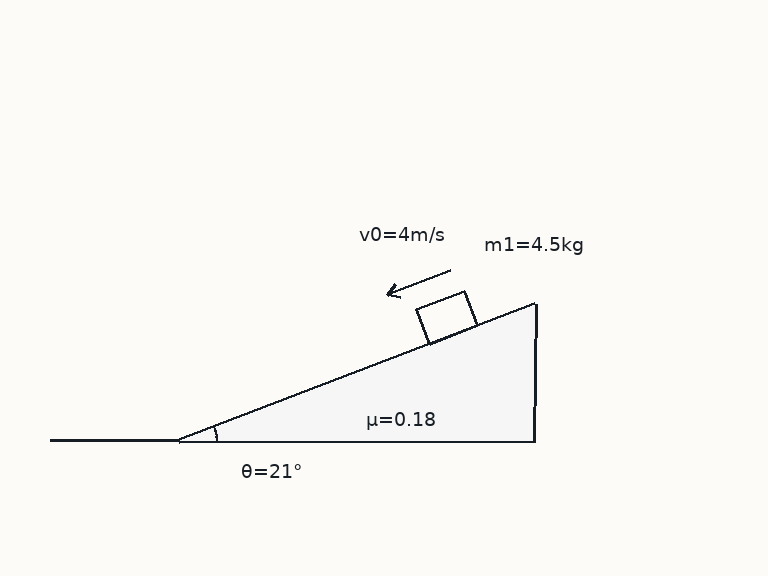block: (414, 289, 479, 346)
ramp: (175, 302, 537, 443)
